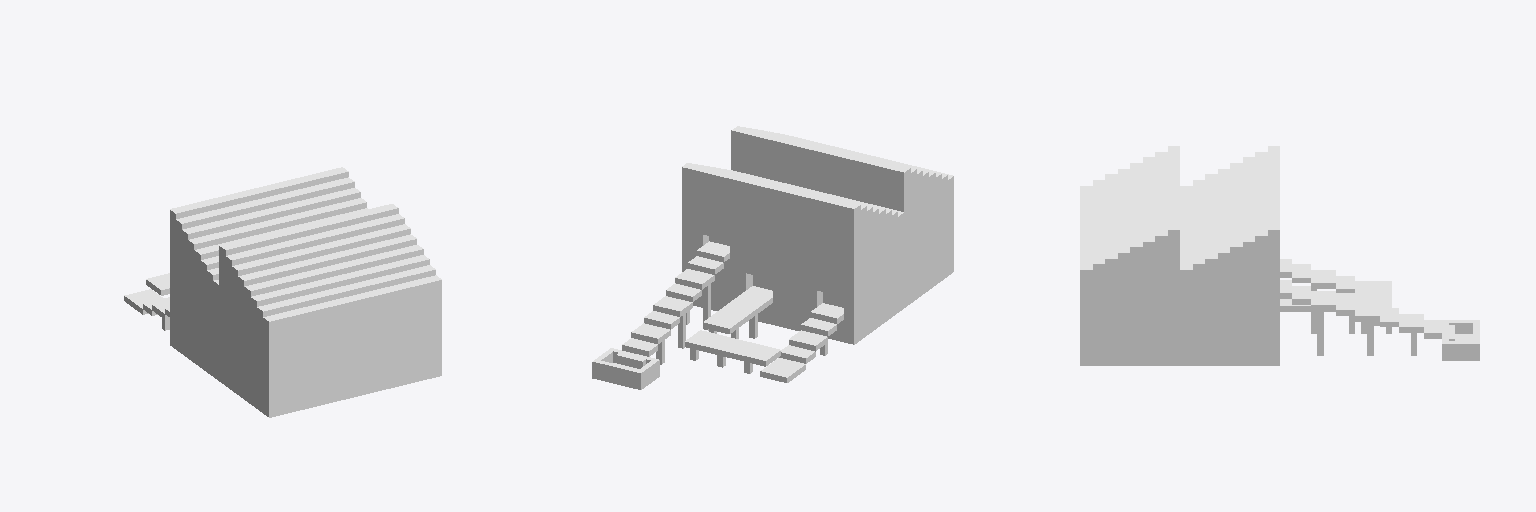
File: sorter.obj
3 views of the same model, side by side, from view 1: azimuth 30°, elevation 25°; view 2: azimuth 150°, elevation 25°; view 3: azimuth 270°, elevation 25° (orthographic).
Visible parts, largest first — view 1: object 1; view 2: object 1; view 3: object 1.
Boxes of the visible parts, <box> form: object 1: <box>124,167,441,417</box>; object 1: <box>592,126,953,389</box>; object 1: <box>1080,146,1479,365</box>.
Bounding box in the file's own units: 3.2 × 2.4 × 6.4.